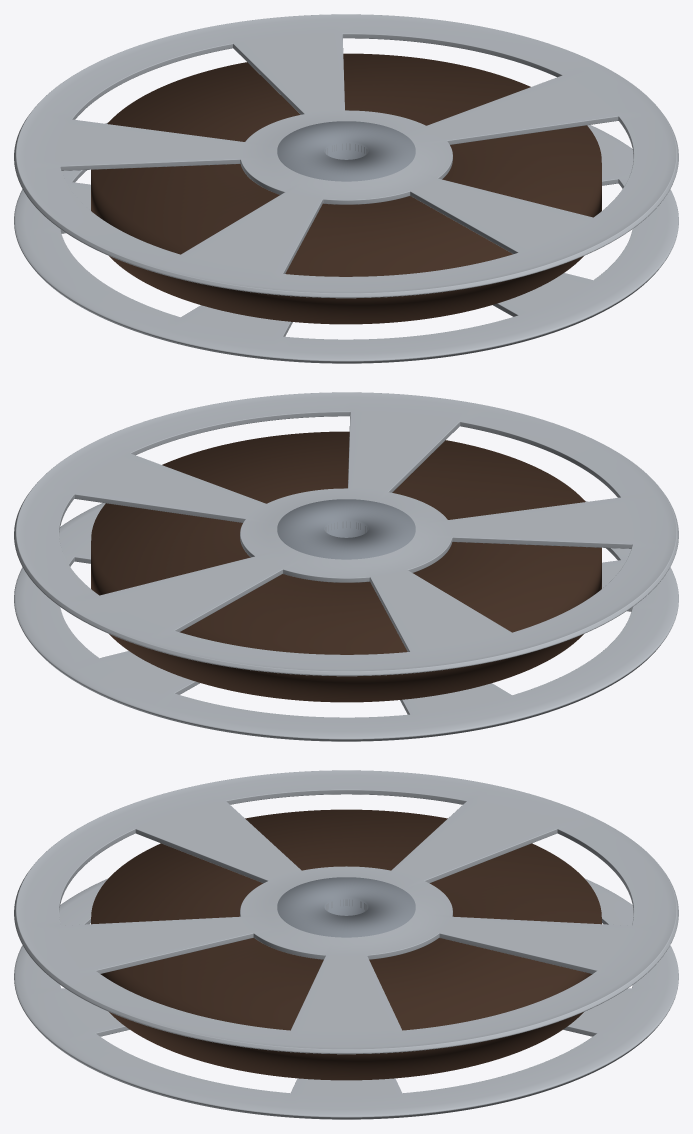
The model's file is projection-reel-wound.glb.
3 views of the same model, one above another, from view 1: azimuth 30°, elevation 25°; view 2: azimuth 150°, elevation 25°; view 3: azimuth 270°, elevation 25° (orthographic).
Parts seen in each view (by area): view 1: FrontStampedFlange, OptionalFilmPack, RearStampedFlange, BoredCentralHub; view 2: FrontStampedFlange, OptionalFilmPack, RearStampedFlange, BoredCentralHub; view 3: FrontStampedFlange, OptionalFilmPack, RearStampedFlange, BoredCentralHub.
Part boxes in pixels (box(x1,y1,x2,y2)): FrontStampedFlange: box(14, 14, 678, 298); OptionalFilmPack: box(91, 53, 601, 324); RearStampedFlange: box(14, 122, 678, 363); BoredCentralHub: box(277, 121, 415, 181); FrontStampedFlange: box(14, 392, 678, 676); OptionalFilmPack: box(91, 431, 601, 702); RearStampedFlange: box(14, 500, 678, 741); BoredCentralHub: box(277, 499, 415, 559); FrontStampedFlange: box(14, 770, 678, 1054); OptionalFilmPack: box(91, 809, 601, 1080); RearStampedFlange: box(14, 878, 678, 1119); BoredCentralHub: box(277, 877, 415, 937).
Bounding box in the file's own units: 1.25 × 0.156 × 1.25.
